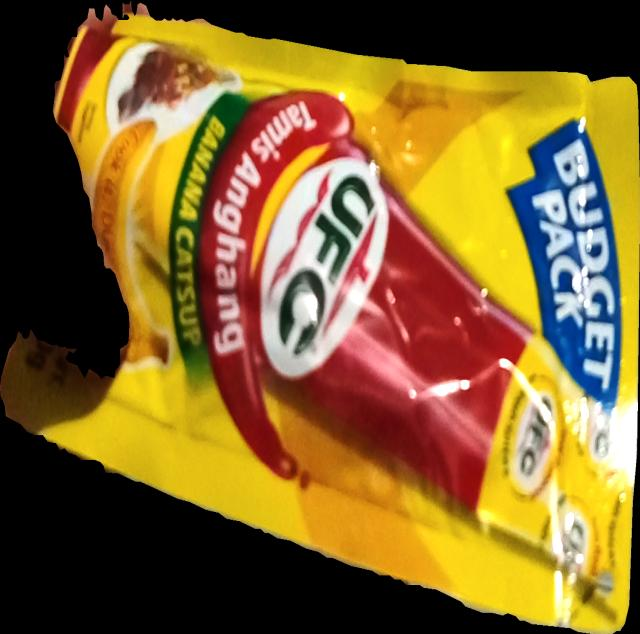ketchup UFC: (0, 1, 640, 634)
